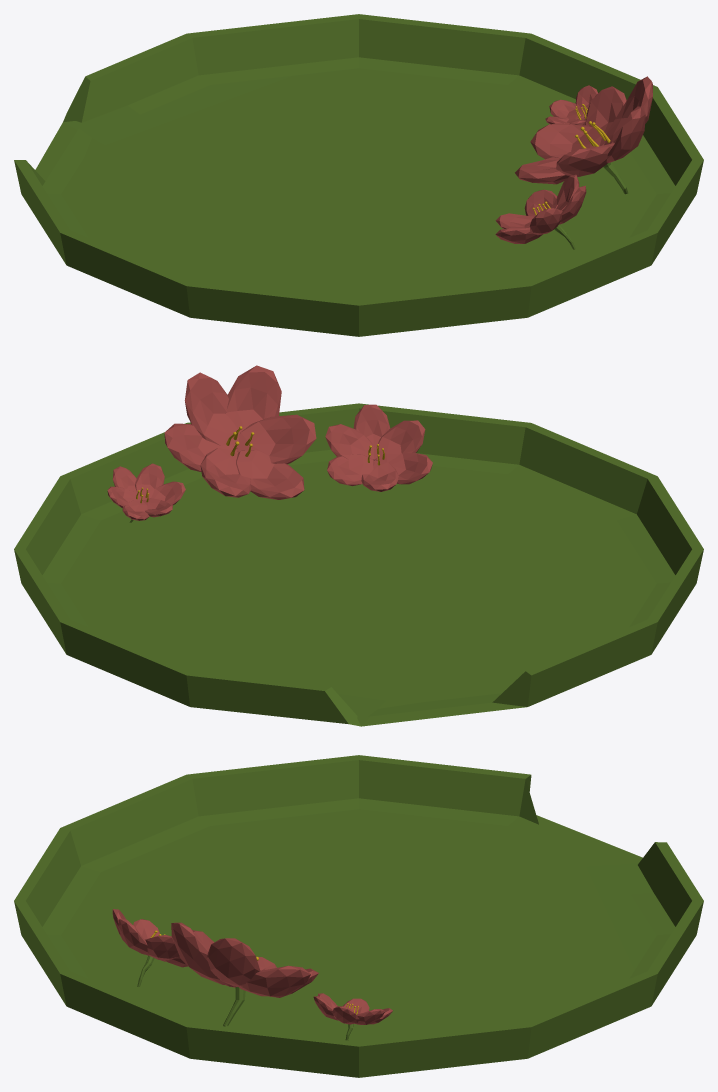
File: lilyPad_FULL.fbx
The picture shows the model from 3 angles, top to bottom: view 1: azimuth 30°, elevation 25°; view 2: azimuth 150°, elevation 25°; view 3: azimuth 270°, elevation 25°; orthographic projection.
Parts seen in each view (by area): view 1: Circle, flower.02, Icosphere.001, Icosphere.003, Icosphere.002, flower.001, Icosphere.004, Icosphere.005, Icosphere; view 2: Circle, flower.02, flower.001, Icosphere.003, Icosphere.004, Icosphere.005, Icosphere, Icosphere.001, Icosphere.002; view 3: Circle, flower.02, Icosphere.004, Icosphere.002, flower.001, Icosphere.005.
Boxes of the visible parts, box(x1,y1,x2,y2) form: Circle: box(14, 14, 703, 336); flower.02: box(495, 174, 586, 249); Icosphere.001: box(530, 123, 601, 159); Icosphere.003: box(556, 142, 614, 176); Icosphere.002: box(585, 86, 626, 145); flower.001: box(545, 85, 597, 125); Icosphere.004: box(604, 76, 652, 145); Icosphere.005: box(606, 106, 645, 162); Icosphere: box(515, 148, 582, 184); Circle: box(14, 403, 703, 726); flower.02: box(325, 404, 432, 491); flower.001: box(107, 463, 185, 522); Icosphere.003: box(237, 414, 316, 464); Icosphere.004: box(184, 372, 240, 448); Icosphere.005: box(225, 365, 281, 432); Icosphere: box(236, 450, 304, 499); Icosphere.001: box(200, 448, 251, 497); Icosphere.002: box(164, 423, 237, 471); Circle: box(14, 755, 703, 1077); flower.02: box(112, 909, 188, 986); Icosphere.004: box(207, 938, 260, 986); Icosphere.002: box(239, 965, 310, 996); flower.001: box(313, 993, 392, 1040); Icosphere.005: box(171, 922, 228, 984).
Size of the model in its own units: 205 by 40.85 by 205.
